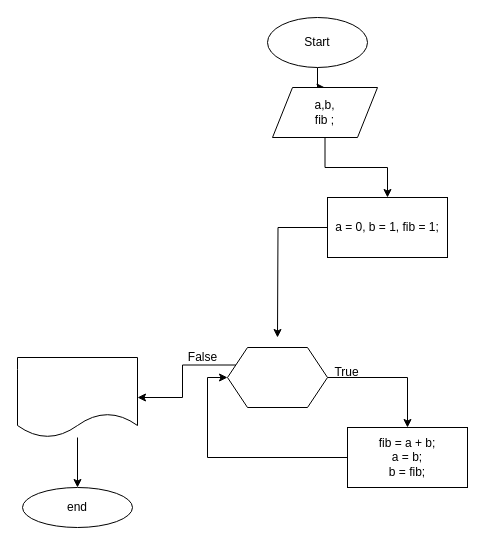
Some shapes in this 485 by 545 pixel diagram are drawn without their labels. Here are the shapes that lost their labels. From the top down, the box of each, then its label:
(16, 356, 138, 438): fib
(226, 346, 328, 408): fib < 1000
